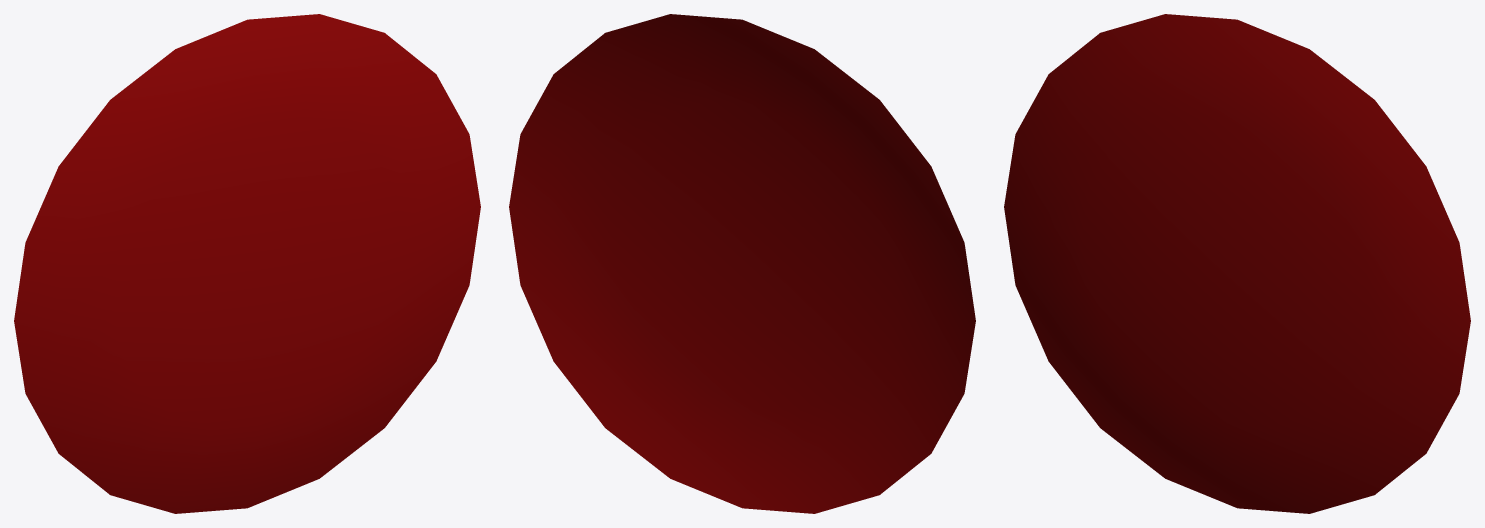
Rendered from DecoMur1.FBX.
3 views of the same model, side by side, from view 1: azimuth 30°, elevation 25°; view 2: azimuth 150°, elevation 25°; view 3: azimuth 330°, elevation 25° (orthographic).
Visible parts, largest first — view 1: logo; view 2: logo; view 3: logo.
Part boxes in pixels (x1,y1,x2,y2): logo: (14, 14, 480, 513); logo: (509, 14, 975, 513); logo: (1004, 14, 1470, 513).
Size of the model in its own units: 0.424 by 0.0235 by 0.424.
